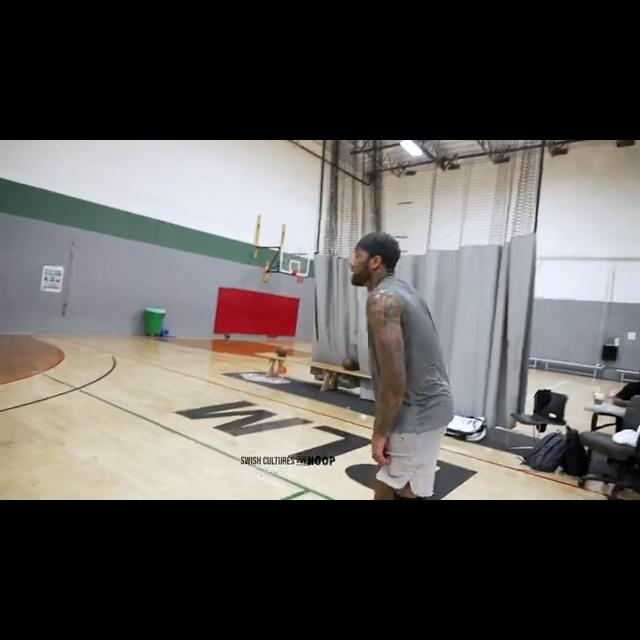hoop: (293, 269, 306, 286)
